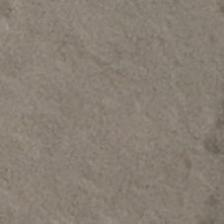Non_Crack: (32, 22, 190, 223)
